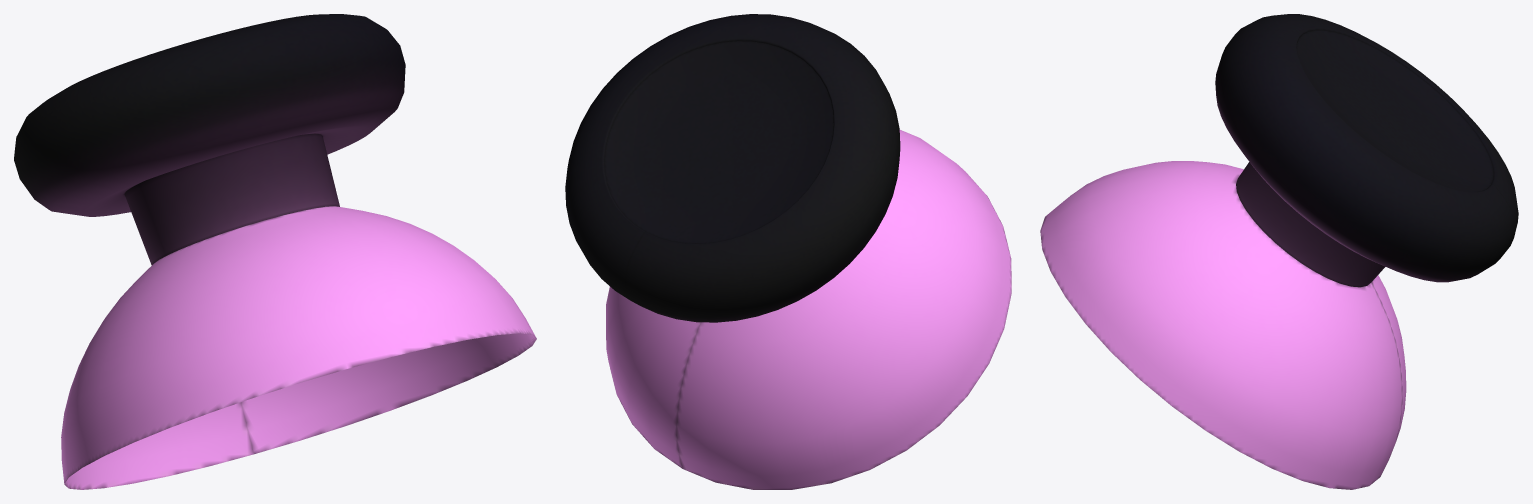
File: oculus_quest_plus_controller_left_thumbstick.obj
3 views of the same model, side by side, from view 1: azimuth 30°, elevation 25°; view 2: azimuth 150°, elevation 25°; view 3: azimuth 270°, elevation 25° (orthographic). The views are drawn at different scales.
Visible parts, largest first — view 1: oculus_quest_plus_controller_left_thumbstick; view 2: oculus_quest_plus_controller_left_thumbstick; view 3: oculus_quest_plus_controller_left_thumbstick.
Part boxes in pixels (<box>): oculus_quest_plus_controller_left_thumbstick: <box>14,14,536,489</box>; oculus_quest_plus_controller_left_thumbstick: <box>565,14,1011,489</box>; oculus_quest_plus_controller_left_thumbstick: <box>1040,14,1518,489</box>.
Bounding box in the file's own units: 0.0158 × 0.0173 × 0.0178.
Materials: 1 (1 with a texture image).
